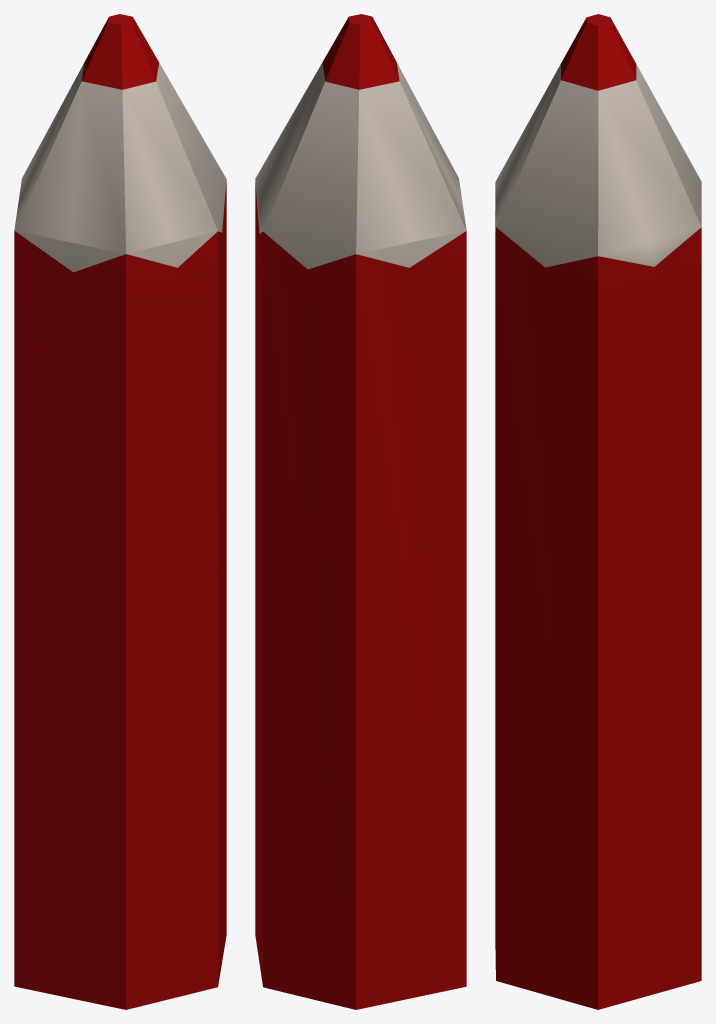
Rendered from crayon.fbx.
3 renders of one model, left to right at view 1: azimuth 30°, elevation 25°; view 2: azimuth 150°, elevation 25°; view 3: azimuth 270°, elevation 25°, orthographic.
Parts seen in each view (by area): view 1: polySurface1; view 2: polySurface1; view 3: polySurface1.
Part boxes in pixels (x1=…): polySurface1: x1=14, y1=14, x2=226, y2=1009; polySurface1: x1=255, y1=14, x2=466, y2=1009; polySurface1: x1=495, y1=14, x2=701, y2=1009.
Size of the model in its own units: 1.76 by 7.46 by 1.49.
